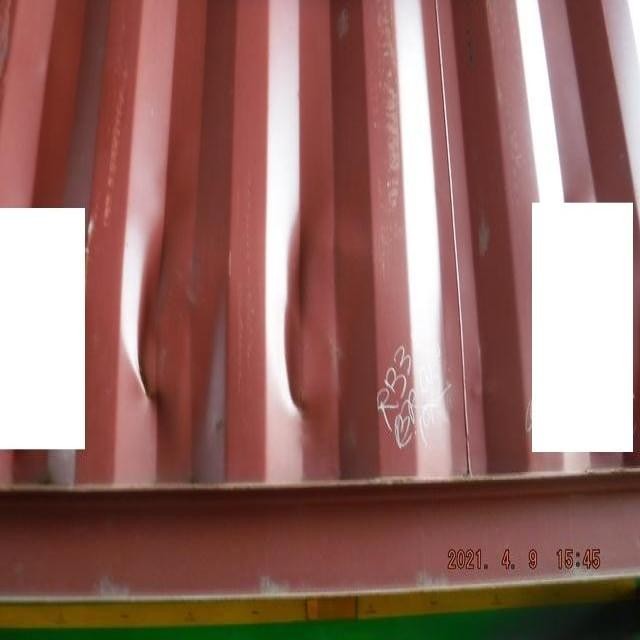dent: (102, 206, 394, 433)
